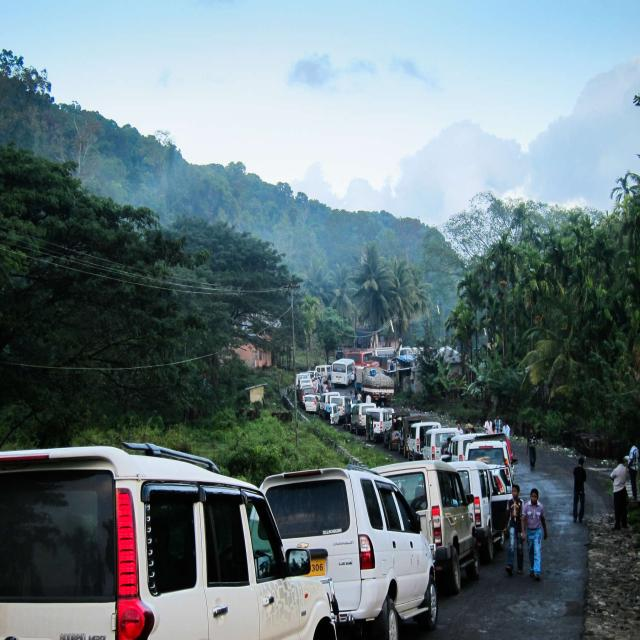bus: (331, 358, 355, 386)
car: (0, 443, 335, 640), (261, 467, 438, 638), (376, 460, 480, 593), (465, 438, 518, 478), (422, 428, 459, 459), (366, 408, 392, 442), (350, 402, 376, 435), (330, 396, 351, 424), (305, 394, 320, 413)
